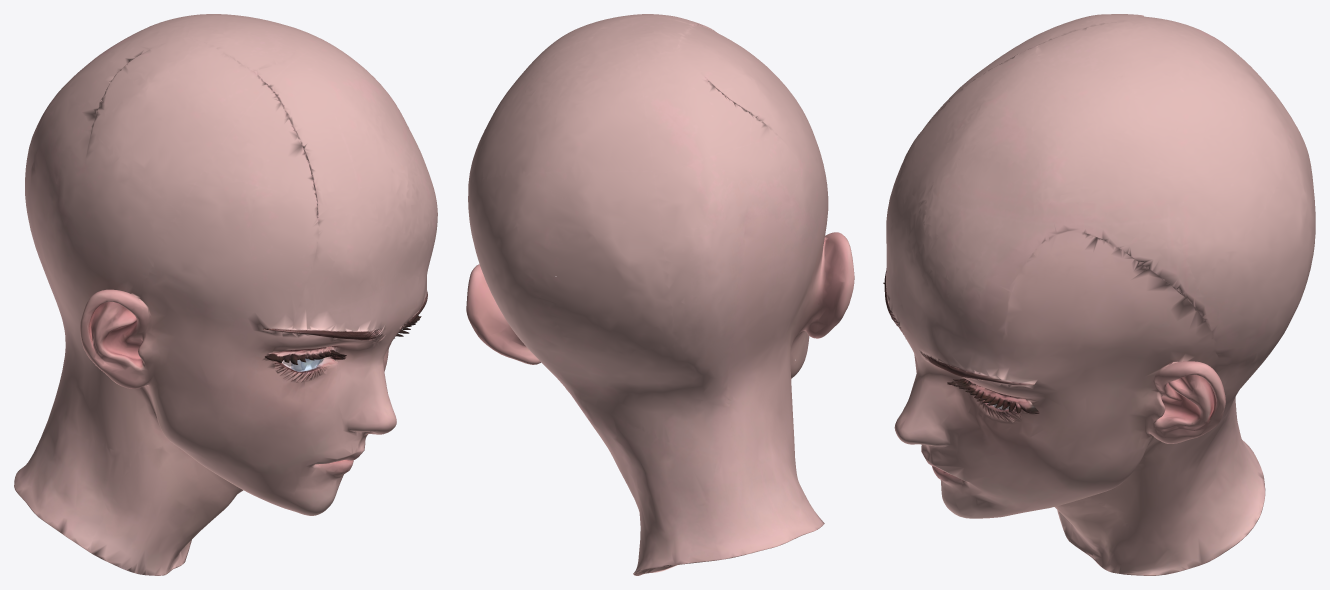
File: bald.glb
3 renders of one model, left to right at view 1: azimuth 30°, elevation 25°; view 2: azimuth 150°, elevation 25°; view 3: azimuth 270°, elevation 25°, orthographic. The views are drawn at different scales.
Visible parts, largest first — view 1: tripo_node_dd954db9-dcf1-4133-a226-3a4f179d926a; view 2: tripo_node_dd954db9-dcf1-4133-a226-3a4f179d926a; view 3: tripo_node_dd954db9-dcf1-4133-a226-3a4f179d926a.
Part boxes in pixels (x1=…): tripo_node_dd954db9-dcf1-4133-a226-3a4f179d926a: x1=14, y1=14, x2=437, y2=575; tripo_node_dd954db9-dcf1-4133-a226-3a4f179d926a: x1=466, y1=14, x2=854, y2=575; tripo_node_dd954db9-dcf1-4133-a226-3a4f179d926a: x1=883, y1=14, x2=1315, y2=575.
Bounding box in the file's own units: 0.6683 × 0.9803 × 0.6876.
Materials: 1 (1 with a texture image).
